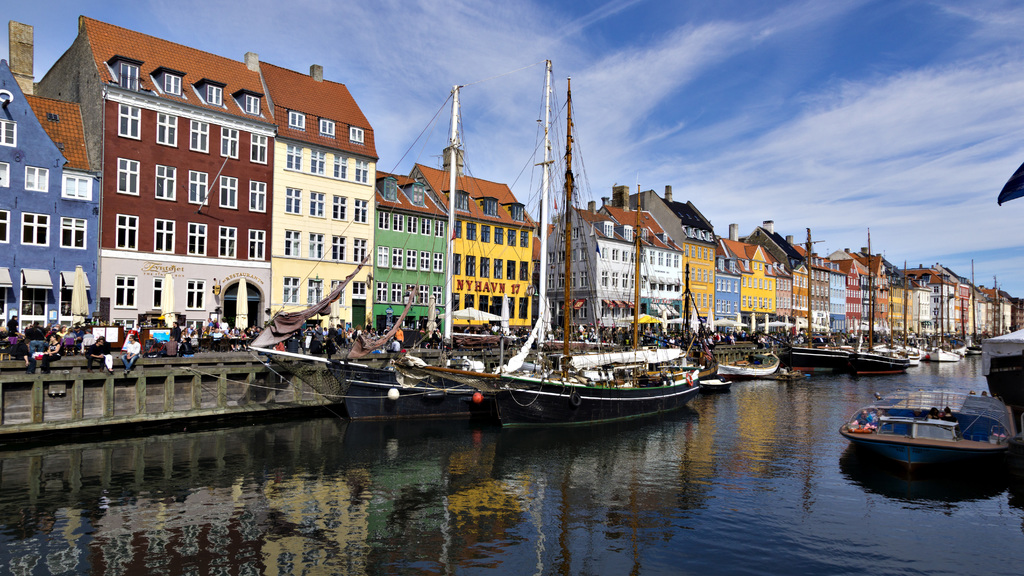boat: (392, 52, 699, 446), (247, 69, 497, 441), (814, 384, 1023, 470), (776, 211, 845, 381), (844, 218, 911, 382), (914, 257, 967, 376), (712, 331, 800, 390)
